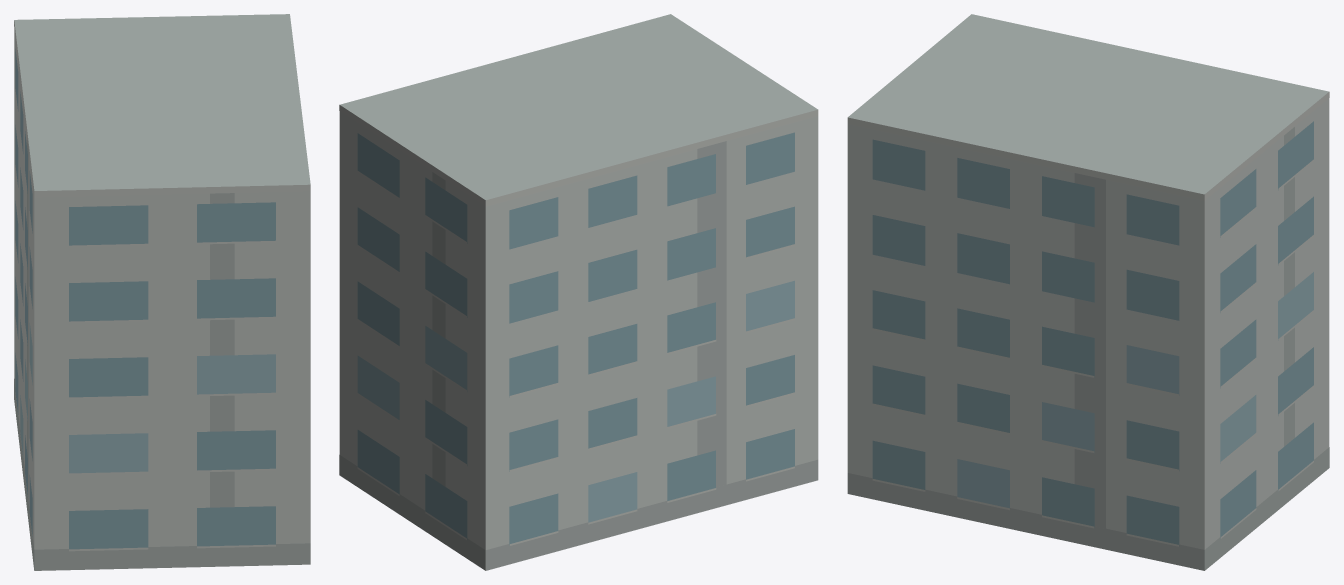
File: survey-upis-32887409.glb
3 views of the same model, side by side, from view 1: azimuth 30°, elevation 25°; view 2: azimuth 150°, elevation 25°; view 3: azimuth 270°, elevation 25° (orthographic). The views are drawn at different scales.
Visible parts, largest first — view 1: survey-upis-32887409.tmp; view 2: survey-upis-32887409.tmp; view 3: survey-upis-32887409.tmp.
Boxes of the visible parts, x1=… form: survey-upis-32887409.tmp: x1=14, y1=14, x2=310, y2=570; survey-upis-32887409.tmp: x1=339, y1=14, x2=818, y2=570; survey-upis-32887409.tmp: x1=847, y1=14, x2=1329, y2=570.
Size of the model in its own units: 14.51 by 14.1 by 16.36.
